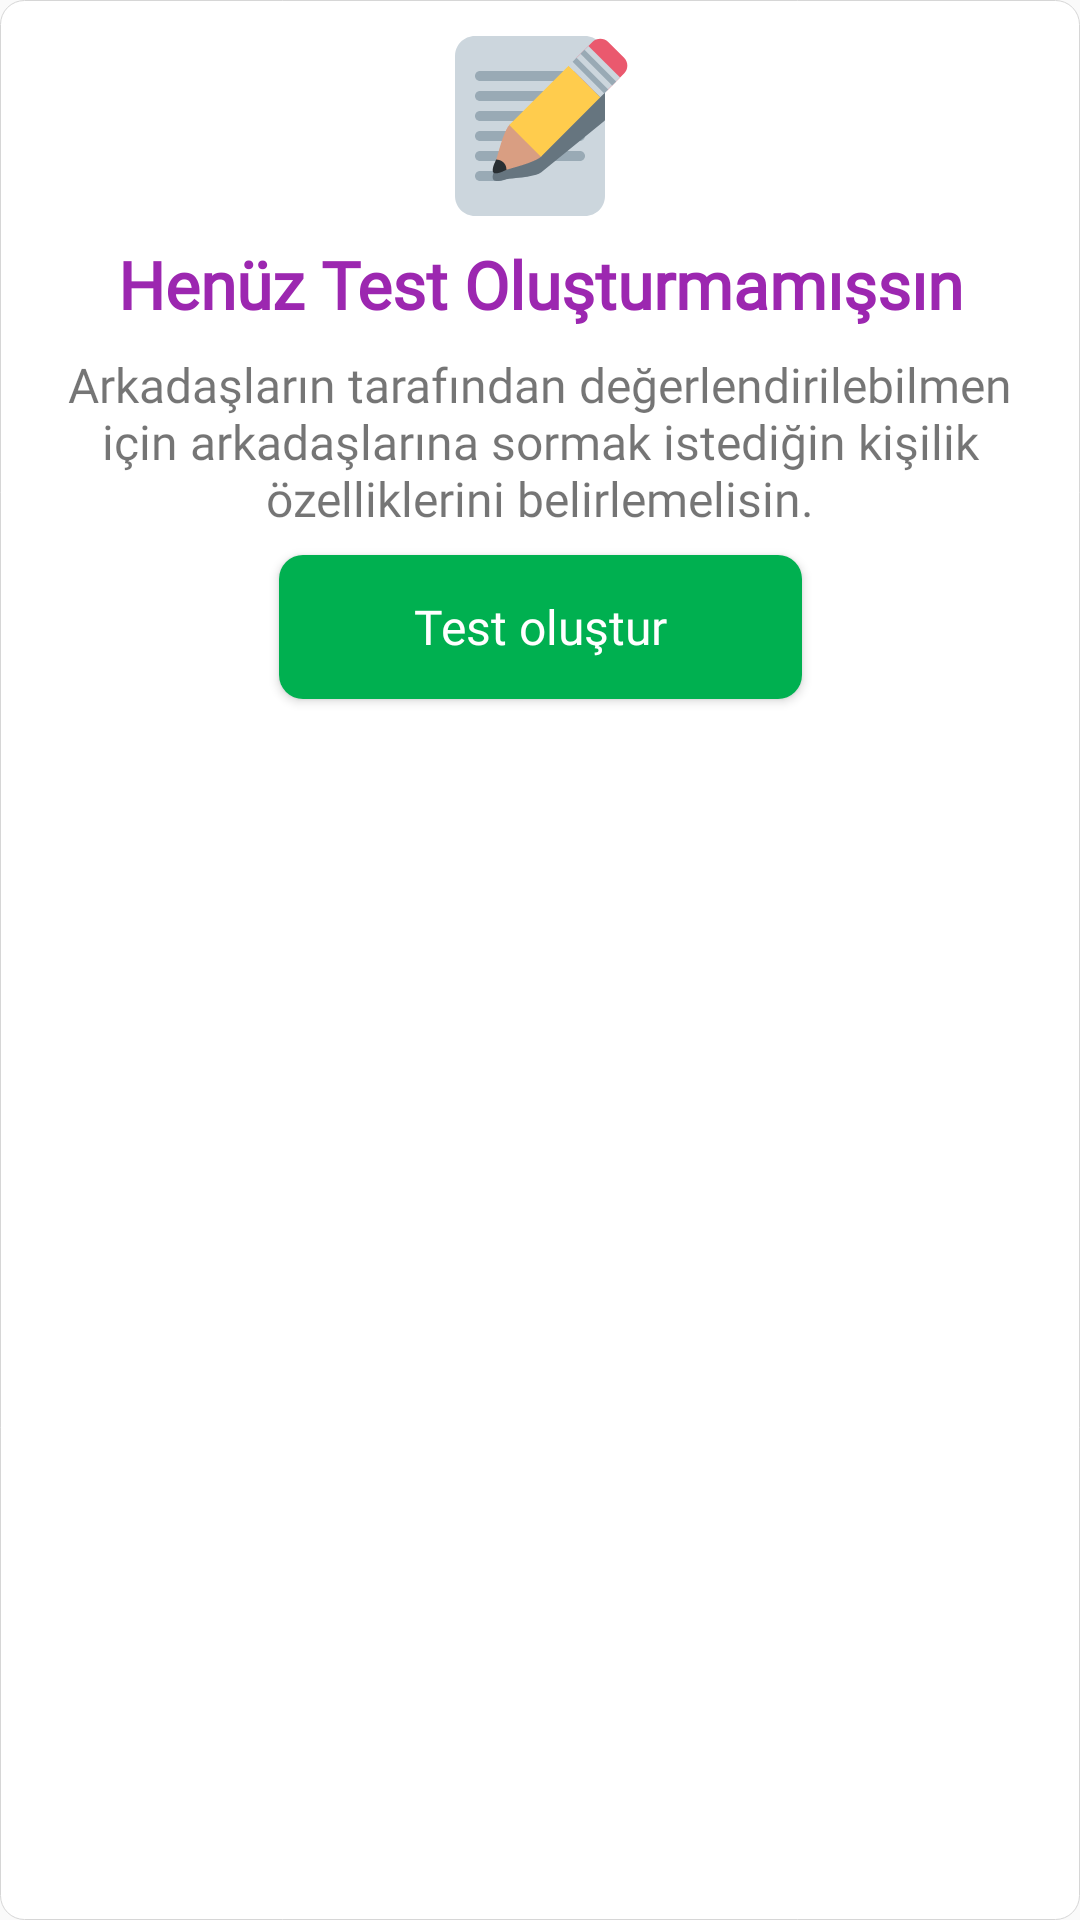

Screen size 1080 × 1920. Icon name, then its box in pixels as (x1, y1, x2, y2):
twe memo: (455, 36, 628, 216)
